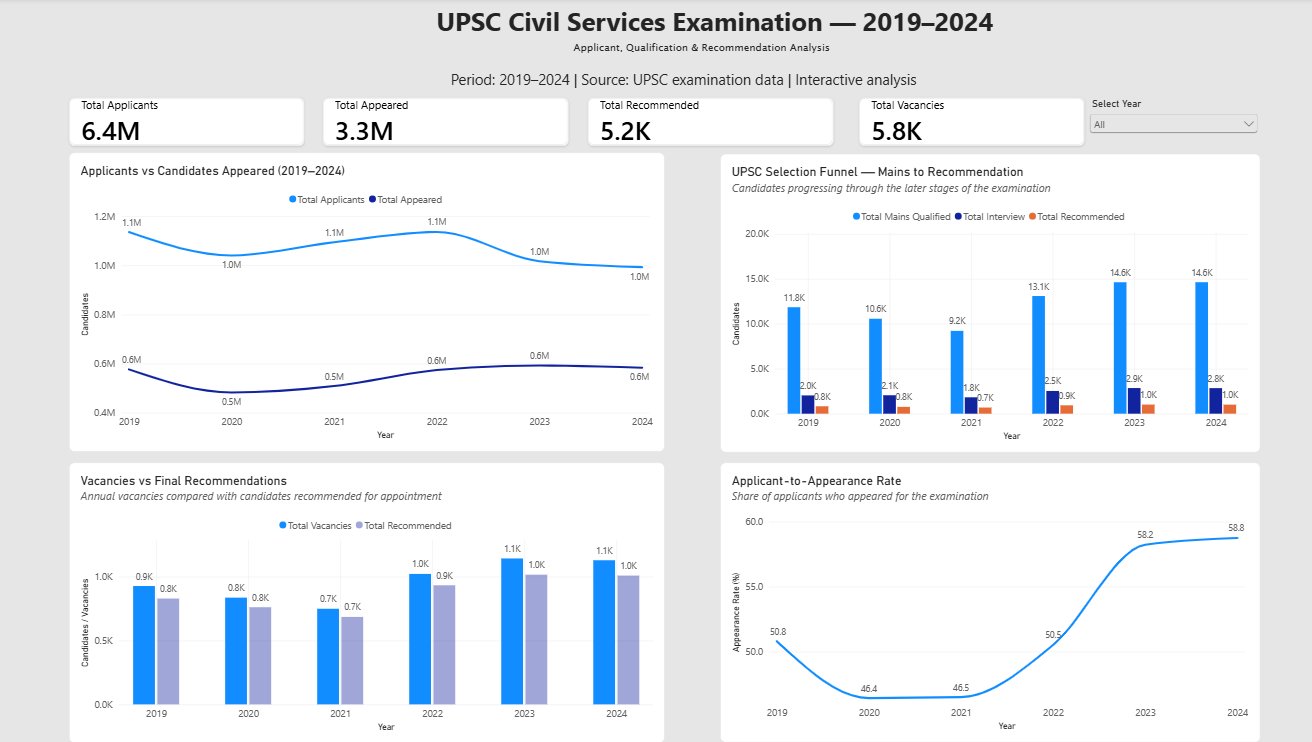

This screenshot's page, from the dashboard's own definition file:
{"tool":"powerbi","page":{"name":"Page 1","canvas":[1920,1080],"ordinal":0},"visuals":[{"type":"lineChart","title":"Applicants vs Candidates Appeared (2019–2024)","fields":{"Category":["upsc_final_analysis.year"],"Y":["upsc_final_analysis.Total Applicants","upsc_final_analysis.Total Appeared"]},"box":[101.3,222.6,866.8,435.2],"z":0},{"type":"clusteredColumnChart","title":"UPSC Selection Funnel — Mains to Recommendation","fields":{"Category":["upsc_final_analysis.year"],"Y":["upsc_final_analysis.Total Mains Qualified","upsc_final_analysis.Total Interview","upsc_final_analysis.Total Recommended"]},"box":[1049.6,224.4,785.4,434.3],"z":1000},{"type":"clusteredColumnChart","title":"Vacancies vs Final Recommendations","fields":{"Category":["upsc_final_analysis.year"],"Y":["upsc_final_analysis.Total Vacancies","upsc_final_analysis.Total Recommended"]},"box":[101.3,673.2,866.8,408],"z":2000},{"type":"cardVisual","fields":{"Data":["upsc_final_analysis.Total Applicants"]},"box":[101.3,141.2,342.7,70.7],"z":3000},{"type":"cardVisual","fields":{"Data":["upsc_final_analysis.Total Appeared"]},"box":[470.5,141.2,357.2,70.7],"z":3001},{"type":"cardVisual","fields":{"Data":["upsc_final_analysis.Total Recommended"]},"box":[856,141.2,357.2,70.7],"z":3002},{"type":"cardVisual","fields":{"Data":["upsc_final_analysis.Total Vacancies"]},"box":[1250.5,141.2,328.2,70.7],"z":3003},{"type":"lineChart","title":"Applicant-to-Appearance Rate","fields":{"Category":["upsc_final_analysis.year"],"Y":["upsc_final_analysis.Appearance Rate"]},"box":[1049.6,673.2,785.4,407.2],"z":3004},{"type":"textbox","box":[99.5,0,1820.5,99.5],"z":3005},{"type":"textbox","box":[101.3,99.5,1788,59.8],"z":3006},{"type":"slicer","fields":{"Values":["upsc_final_analysis.year"]},"box":[1581.6,141.2,253.9,112.4],"z":3007}]}

Visuals, with their boxes in screenshot pixels (x1, y1, x2, y2), scaled from the page's 1920x1080 canvas onto the 1312x742 screenshot:
"Applicants vs Candidates Appeared (2019–2024)" lineChart: <box>69,153,662,452</box>
"UPSC Selection Funnel — Mains to Recommendation" clusteredColumnChart: <box>717,154,1254,453</box>
"Vacancies vs Final Recommendations" clusteredColumnChart: <box>69,463,662,741</box>
cardVisual - upsc_final_analysis.Total Applicants: <box>69,97,303,146</box>
cardVisual - upsc_final_analysis.Total Appeared: <box>322,97,566,146</box>
cardVisual - upsc_final_analysis.Total Recommended: <box>585,97,829,146</box>
cardVisual - upsc_final_analysis.Total Vacancies: <box>855,97,1079,146</box>
"Applicant-to-Appearance Rate" lineChart: <box>717,463,1254,741</box>
textbox: <box>68,0,1311,68</box>
textbox: <box>69,68,1291,109</box>
slicer - upsc_final_analysis.year: <box>1081,97,1254,174</box>
